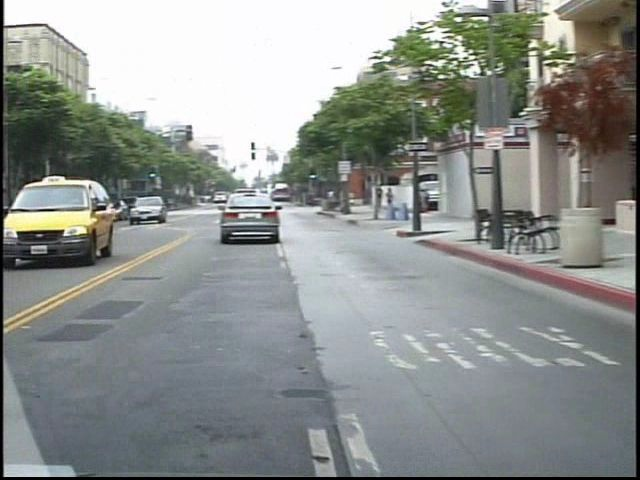person: (373, 186, 388, 221), (311, 185, 328, 214)
